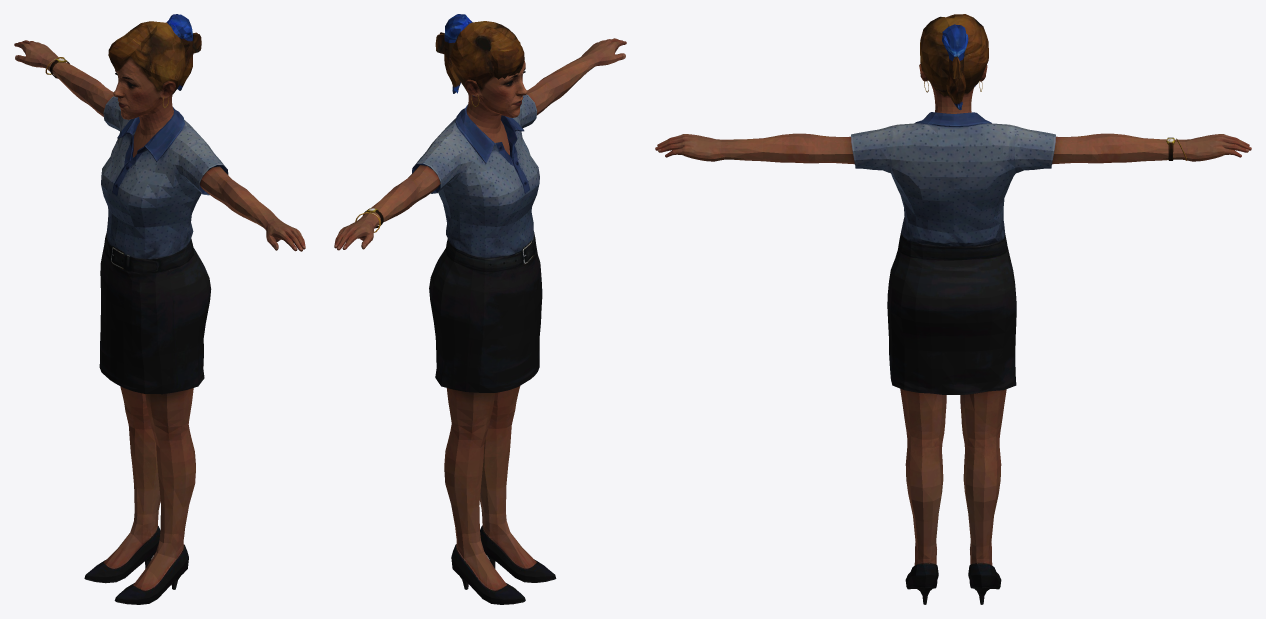
The model's file is EC4F1VR12FMFMBQLFL74NCYL8.obj.
3 renders of one model, left to right at view 1: azimuth 30°, elevation 25°; view 2: azimuth 150°, elevation 25°; view 3: azimuth 270°, elevation 25°, orthographic. The views are drawn at different scales.
Visible parts, largest first — view 1: Object_Tex_0311_2.jpg, Object_Tex_0310_3.jpg, Object_Tex_0309_3.jpg; view 2: Object_Tex_0311_2.jpg, Object_Tex_0310_3.jpg, Object_Tex_0309_3.jpg; view 3: Object_Tex_0311_2.jpg, Object_Tex_0310_3.jpg, Object_Tex_0309_3.jpg.
Boxes of the visible parts, x1,y1,x2,y2 form: Object_Tex_0311_2.jpg: [14, 40, 305, 604]; Object_Tex_0310_3.jpg: [108, 14, 201, 93]; Object_Tex_0309_3.jpg: [113, 57, 175, 157]; Object_Tex_0311_2.jpg: [334, 38, 626, 604]; Object_Tex_0310_3.jpg: [435, 14, 524, 96]; Object_Tex_0309_3.jpg: [464, 60, 527, 155]; Object_Tex_0311_2.jpg: [655, 80, 1251, 604]; Object_Tex_0310_3.jpg: [920, 14, 988, 109]; Object_Tex_0309_3.jpg: [919, 63, 987, 113].
Size of the model in its own units: 0.4753 by 2.5 by 2.3.
Materials: 4 (4 with a texture image).
